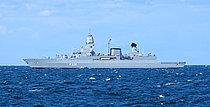MIL_Ship: (22, 33, 186, 70)
